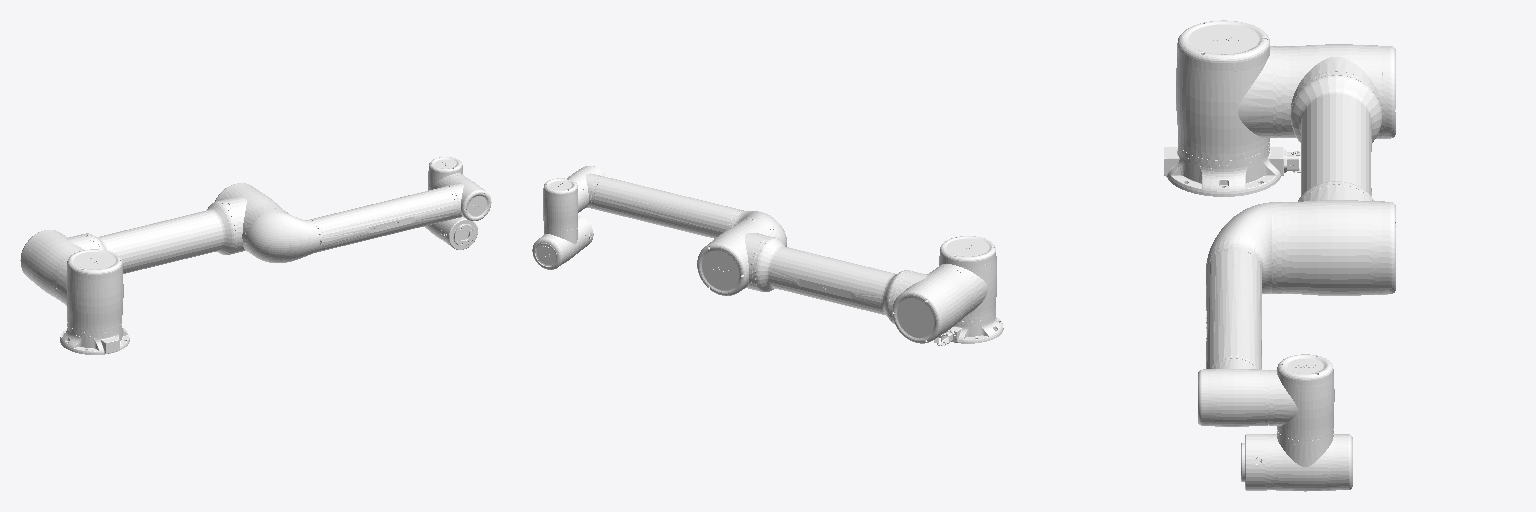
robot.urdf — jaka_zu12:
<?xml version="1.0" encoding="utf-8"?>
<!-- This URDF was automatically created by SolidWorks to URDF Exporter! Originally created by [author] ([email redacted]) 
     Commit Version: 1.5.0-0-g9aa0fdb  Build Version: 1.5.7004.21443
     For more information, please see http://wiki.ros.org/sw_urdf_exporter -->
<robot name="jaka_zu12">
  <!-- LINK -->
  <link name="world" />

  <link name="Link_0">
    <inertial>
      <origin
        xyz="3.01643284384016E-05 -0.000681463570921656 -0.0225912828938222"
        rpy="0 0 0" />
      <mass
        value="0.8" />
      <inertia
        ixx="0.0102472789321389"
        ixy="-1.25211096927899E-05"
        ixz="-2.032215901439E-07"
        iyy="0.00775885552091728"
        iyz="4.74326539193397E-05"
        izz="0.0171648317580214" />
    </inertial>
    <visual>
      <origin
        xyz="0 0 0"
        rpy="0 0 0" />
      <geometry>
        <mesh
          filename="package://jaka_description/meshes/jaka_zu12_meshes/base_link.STL" />
      </geometry>
      <material
        name="">
        <color
          rgba="1 1 1 1" />
      </material>
    </visual>
    <collision>
      <origin
        xyz="0 0 0"
        rpy="0 0 0" />
      <geometry>
        <mesh
          filename="package://jaka_description/meshes/jaka_zu12_meshes/base_link.STL" />
      </geometry>
    </collision>
  </link>

  <link name="Link_1">
    <inertial>
      <origin
        xyz="-0.000328431560018958 0.00406089906856803 -0.0250109305609668"
        rpy="0 0 0" />
      <mass
        value="3.78" />
      <inertia
        ixx="0.0404051529004393"
        ixy="-5.35916937084468E-05"
        ixz="8.56853276426298E-05"
        iyy="0.0404457306741405"
        iyz="-0.00039414179882763"
        izz="0.0343161527751278" />
    </inertial>
    <visual>
      <origin
        xyz="0 0 0"
        rpy="0 0 0" />
      <geometry>
        <mesh
          filename="package://jaka_description/meshes/jaka_zu12_meshes/1.STL" />
      </geometry>
      <material
        name="">
        <color
          rgba="1 1 1 1" />
      </material>
    </visual>
    <collision>
      <origin
        xyz="0 0 0"
        rpy="0 0 0" />
      <geometry>
        <mesh
          filename="package://jaka_description/meshes/jaka_zu12_meshes/1.STL" />
      </geometry>
    </collision>
  </link>

  <link name="Link_2">
    <inertial>
      <origin
        xyz="0.297499939118518 -1.25165127429216E-08 -0.166069989366573"
        rpy="0 0 0" />
      <mass
        value="12.44" />
      <inertia
        ixx="0.116456439495809"
        ixy="-0.00156765863153774"
        ixz="-3.42571922960543E-06"
        iyy="1.66880550591637"
        iyz="-1.42545474100985E-05"
        izz="1.65302926902866" />
    </inertial>
    <visual>
      <origin
        xyz="0 0 0"
        rpy="0 0 0" />
      <geometry>
        <mesh
          filename="package://jaka_description/meshes/jaka_zu12_meshes/2.STL" />
      </geometry>
      <material
        name="">
        <color
          rgba="1 1 1 1" />
      </material>
    </visual>
    <collision>
      <origin
        xyz="0 0 0"
        rpy="0 0 0" />
      <geometry>
        <mesh
          filename="package://jaka_description/meshes/jaka_zu12_meshes/2.STL" />
      </geometry>
    </collision>
  </link>

  <link name="Link_3">
    <inertial>
      <origin
        xyz="0.294233782543355 -4.72319252706188E-06 -0.0241861096678911"
        rpy="0 0 0" />
      <mass
        value="5.06" />
      <inertia
        ixx="0.0212898342592158"
        ixy="-1.15196860083347E-05"
        ixz="-0.00344346825692792"
        iyy="0.497633875998665"
        iyz="-6.35439617896331E-07"
        izz="0.498513225896089" />
    </inertial>
    <visual>
      <origin
        xyz="0 0 0"
        rpy="0 0 0" />
      <geometry>
        <mesh
          filename="package://jaka_description/meshes/jaka_zu12_meshes/3.STL" />
      </geometry>
      <material
        name="">
        <color
          rgba="1 1 1 1" />
      </material>
    </visual>
    <collision>
      <origin
        xyz="0 0 0"
        rpy="0 0 0" />
      <geometry>
        <mesh
          filename="package://jaka_description/meshes/jaka_zu12_meshes/3.STL" />
      </geometry>
    </collision>
  </link>

  <link name="Link_4">
    <inertial>
      <origin
        xyz="4.22017696188881E-06 -0.0150343523848632 0.00216593552372366"
        rpy="0 0 0" />
      <mass
        value="0.883" />
      <inertia
        ixx="0.00458464465961989"
        ixy="2.63659533420518E-06"
        ixz="-1.52605286509264E-05"
        iyy="0.00363879515047717"
        iyz="-3.19585101806877E-05"
        izz="0.00455871160423887" />
    </inertial>
    <visual>
      <origin
        xyz="0 0 0"
        rpy="0 0 0" />
      <geometry>
        <mesh
          filename="package://jaka_description/meshes/jaka_zu12_meshes/4.STL" />
      </geometry>
      <material
        name="">
        <color
          rgba="1 1 1 1" />
      </material>
    </visual>
    <collision>
      <origin
        xyz="0 0 0"
        rpy="0 0 0" />
      <geometry>
        <mesh
          filename="package://jaka_description/meshes/jaka_zu12_meshes/4.STL" />
      </geometry>
    </collision>
  </link>

  <link name="Link_5">
    <inertial>
      <origin
        xyz="3.86594587120648E-06 0.00426530078104992 -0.00184283112443297"
        rpy="0 0 0" />
      <mass
        value="1" />
      <inertia
        ixx="0.00702353102292446"
        ixy="-2.72522678679305E-06"
        ixz="1.52464540194323E-05"
        iyy="0.00413469714863856"
        iyz="2.81695088352211E-05"
        izz="0.00699581168456812" />
    </inertial>
    <visual>
      <origin
        xyz="0 0 0"
        rpy="0 0 0" />
      <geometry>
        <mesh
          filename="package://jaka_description/meshes/jaka_zu12_meshes/5.STL" />
      </geometry>
      <material
        name="">
        <color
          rgba="1 1 1 1" />
      </material>
    </visual>
    <collision>
      <origin
        xyz="0 0 0"
        rpy="0 0 0" />
      <geometry>
        <mesh
          filename="package://jaka_description/meshes/jaka_zu12_meshes/5.STL" />
      </geometry>
    </collision>
  </link>

  <link name="Link_6">
    <inertial>
      <origin
        xyz="-0.000786084663781494 3.88801034911165E-05 -0.0163246941858815"
        rpy="0 0 0" />
      <mass
        value="0.22" />
      <inertia
        ixx="0.000597975009893646"
        ixy="-2.41634474044304E-05"
        ixz="-6.20059067536115E-06"
        iyy="0.000647976470675928"
        iyz="-6.92746756534325E-07"
        izz="0.00106463342891045" />
    </inertial>
    <visual>
      <origin
        xyz="0 0 0"
        rpy="0 0 0" />
      <geometry>
        <mesh
          filename="package://jaka_description/meshes/jaka_zu12_meshes/6.STL" />
      </geometry>
      <material
        name="">
        <color
          rgba="1 1 1 1" />
      </material>
    </visual>
    <collision>
      <origin
        xyz="0 0 0"
        rpy="0 0 0" />
      <geometry>
        <mesh
          filename="package://jaka_description/meshes/jaka_zu12_meshes/6.STL" />
      </geometry>
    </collision>
  </link>

  <!-- JOINT -->
  <joint name="fixed" type="fixed">
       <parent link="world"/>
       <child link="Link_0"/>
  </joint>

  <joint name="joint_1" type="continuous">
    <origin xyz="0 0 0.10265" rpy="0 0 0" />
    <parent link="Link_0" />
    <child link="Link_1" />
    <axis xyz="0 0 1" />
    <limit lower="-6.28" upper="6.28" effort="2000" velocity="1.57" />
  </joint>
  
  <joint name="joint_2" type="continuous">
    <origin xyz="0 0 0" rpy="1.5708 0 0" />
    <parent link="Link_1" />
    <child link="Link_2" />
    <axis xyz="0 0 1" />
    <limit lower="-1.48" upper="4.62" effort="8000" velocity="1.57" />  
  </joint>

  <joint name="joint_3" type="continuous">
    <origin xyz="0.595 0 0" rpy="0 0 0" />
    <parent link="Link_2" />
    <child link="Link_3" />
    <axis xyz="0 0 1" />
    <limit lower="-3.05" upper="3.05" effort="8000" velocity="1.57" />
  </joint>

  <joint name="joint_4" type="continuous">
    <origin xyz="0.5715 0 -0.1315" rpy="0 0 0" />
    <parent link="Link_3" />
    <child link="Link_4" />
    <axis xyz="0 0 1" />
    <limit lower="-1.48" upper="4.62" effort="2000" velocity="1.57" />
  </joint>

  <joint name="joint_5" type="continuous">
    <origin xyz="0 -0.115 0" rpy="1.5708 0 0" />
    <parent link="Link_4" />
    <child link="Link_5" />
    <axis xyz="0 0 1" />
    <limit lower="-6.28" upper="6.28" effort="3000" velocity="1.57" />
  </joint>

  <joint name="joint_6" type="continuous">
    <origin xyz="0 0.1035 0" rpy="-1.5708 0 0" />
    <parent link="Link_5" />
    <child link="Link_6" />
    <axis xyz="0 0 1" />
    <limit lower="-6.28" upper="6.28" effort="1000" velocity="1.57" />
  </joint>

  <transmission name="trans_joint_1">
    <type>transmission_interface/SimpleTransmission</type>
    <joint name="joint_1">
      <hardwareInterface>hardware_interface/PositionJointInterface</hardwareInterface>
    </joint>
    <actuator name="joint_1_motor">
      <hardwareInterface>hardware_interface/PositionJointInterface</hardwareInterface>
      <mechanicalReduction>1</mechanicalReduction>
    </actuator>
  </transmission>
  <transmission name="trans_joint_2">
    <type>transmission_interface/SimpleTransmission</type>
    <joint name="joint_2">
      <hardwareInterface>hardware_interface/PositionJointInterface</hardwareInterface>
    </joint>
    <actuator name="joint_2_motor">
      <hardwareInterface>hardware_interface/PositionJointInterface</hardwareInterface>
      <mechanicalReduction>1</mechanicalReduction>
    </actuator>
  </transmission>
  <transmission name="trans_joint_3">
    <type>transmission_interface/SimpleTransmission</type>
    <joint name="joint_3">
      <hardwareInterface>hardware_interface/PositionJointInterface</hardwareInterface>
    </joint>
    <actuator name="joint_3_motor">
      <hardwareInterface>hardware_interface/PositionJointInterface</hardwareInterface>
      <mechanicalReduction>1</mechanicalReduction>
    </actuator>
  </transmission>
  <transmission name="trans_joint_4">
    <type>transmission_interface/SimpleTransmission</type>
    <joint name="joint_4">
      <hardwareInterface>hardware_interface/PositionJointInterface</hardwareInterface>
    </joint>
    <actuator name="joint_4_motor">
      <hardwareInterface>hardware_interface/PositionJointInterface</hardwareInterface>
      <mechanicalReduction>1</mechanicalReduction>
    </actuator>
  </transmission>
  <transmission name="trans_joint_5">
    <type>transmission_interface/SimpleTransmission</type>
    <joint name="joint_5">
      <hardwareInterface>hardware_interface/PositionJointInterface</hardwareInterface>
    </joint>
    <actuator name="joint_5_motor">
      <hardwareInterface>hardware_interface/PositionJointInterface</hardwareInterface>
      <mechanicalReduction>1</mechanicalReduction>
    </actuator>
  </transmission>
  <transmission name="trans_joint_6">
    <type>transmission_interface/SimpleTransmission</type>
    <joint name="joint_6">
      <hardwareInterface>hardware_interface/PositionJointInterface</hardwareInterface>
    </joint>
    <actuator name="joint_6_motor">
      <hardwareInterface>hardware_interface/PositionJointInterface</hardwareInterface>
      <mechanicalReduction>1</mechanicalReduction>
    </actuator>
  </transmission>
  <gazebo>
    <plugin name="gazebo_ros_control" filename="libgazebo_ros_control.so">
      <robotNamespace>/</robotNamespace>
    </plugin>
  </gazebo>
</robot>

--- Render facts (derived) ---
3 views of the same robot in one strip: view 1: azimuth 30°, elevation 25°; view 2: azimuth 150°, elevation 25°; view 3: azimuth 270°, elevation 25° (orthographic).
Robot: jaka_zu12 — 8 links, 7 joints (6 continuous, 1 fixed); root link world; default pose: every joint at zero.
Visible links, largest first — view 1: Link_2, Link_3, Link_1, Link_0, Link_6, Link_4; view 2: Link_2, Link_3, Link_1, Link_4, Link_5, Link_0; view 3: Link_2, Link_3, Link_1, Link_4, Link_5, Link_0, Link_6.
Link boxes in pixels (left/top/right/bottom): Link_2: left=20, top=183, right=287, bottom=302; Link_3: left=248, top=174, right=491, bottom=262; Link_1: left=56, top=249, right=123, bottom=337; Link_0: left=60, top=327, right=129, bottom=354; Link_6: left=443, top=217, right=477, bottom=249; Link_4: left=428, top=157, right=462, bottom=190; Link_2: left=697, top=217, right=976, bottom=343; Link_3: left=567, top=166, right=786, bottom=246; Link_1: left=937, top=236, right=996, bottom=326; Link_4: left=543, top=178, right=584, bottom=233; Link_5: left=532, top=222, right=587, bottom=269; Link_0: left=934, top=317, right=1003, bottom=345; Link_2: left=1273, top=44, right=1395, bottom=295; Link_3: left=1198, top=202, right=1273, bottom=426; Link_1: left=1176, top=20, right=1272, bottom=168; Link_4: left=1274, top=354, right=1334, bottom=445; Link_5: left=1265, top=434, right=1352, bottom=491; Link_0: left=1164, top=147, right=1300, bottom=196; Link_6: left=1241, top=434, right=1264, bottom=490.
Size in the robot's own frame: 1.31 by 0.3752 by 0.2587 metres.
Meshes: 7 distinct files referenced, 7 mesh visuals loaded (7 binary STL).
